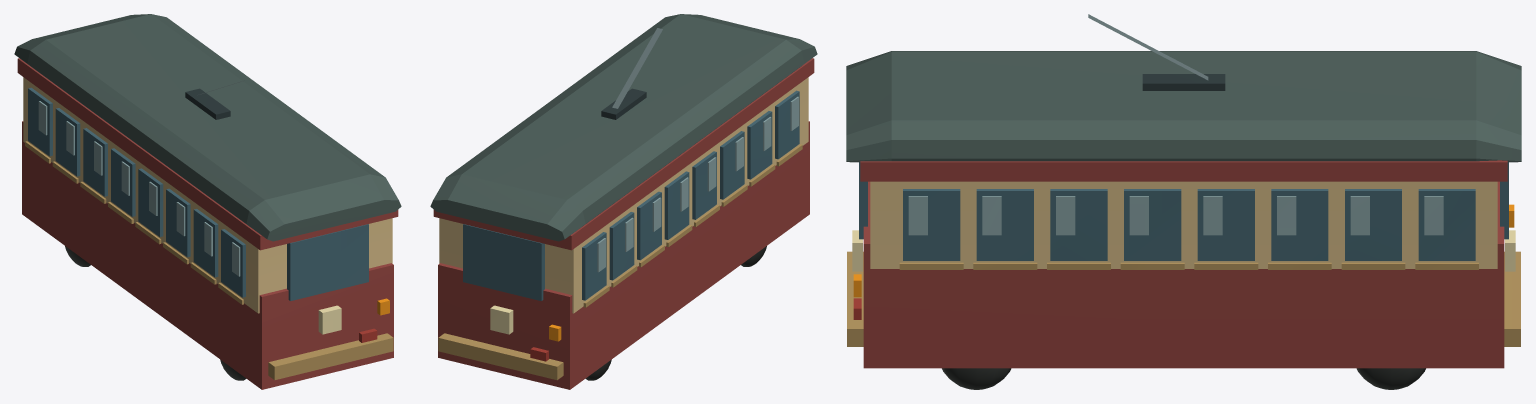
The model's file is trolley.glb.
3 renders of one model, left to right at view 1: azimuth 30°, elevation 25°; view 2: azimuth 150°, elevation 25°; view 3: azimuth 270°, elevation 25°, orthographic. The views are drawn at different scales.
Parts seen in each view (by area): view 1: Delmar Loop heritage trolley · Trolley roof, Delmar Loop heritage trolley · Trolley red, Delmar Loop heritage trolley · Car glass, Delmar Loop heritage trolley · Trolley cream, Delmar Loop heritage trolley · Brass, Delmar Loop heritage trolley · Car glint, Delmar Loop heritage trolley · Coal, Delmar Loop heritage trolley · Headlight, Delmar Loop heritage trolley · Tire; view 2: Delmar Loop heritage trolley · Trolley roof, Delmar Loop heritage trolley · Trolley red, Delmar Loop heritage trolley · Car glass, Delmar Loop heritage trolley · Trolley cream, Delmar Loop heritage trolley · Brass, Delmar Loop heritage trolley · Car glint, Delmar Loop heritage trolley · Coal, Delmar Loop heritage trolley · Headlight, Delmar Loop heritage trolley · Steel, Delmar Loop heritage trolley · Tire; view 3: Delmar Loop heritage trolley · Trolley red, Delmar Loop heritage trolley · Trolley roof, Delmar Loop heritage trolley · Car glass, Delmar Loop heritage trolley · Trolley cream, Delmar Loop heritage trolley · Brass, Delmar Loop heritage trolley · Car glint, Delmar Loop heritage trolley · Tire, Delmar Loop heritage trolley · Coal, Delmar Loop heritage trolley · Headlight.
Part boxes in pixels (left/top/right/bottom): Delmar Loop heritage trolley · Trolley roof: left=14, top=14, right=401, bottom=241; Delmar Loop heritage trolley · Trolley red: left=17, top=58, right=398, bottom=389; Delmar Loop heritage trolley · Car glass: left=28, top=87, right=368, bottom=300; Delmar Loop heritage trolley · Trolley cream: left=23, top=77, right=392, bottom=313; Delmar Loop heritage trolley · Brass: left=25, top=141, right=393, bottom=380; Delmar Loop heritage trolley · Car glint: left=38, top=101, right=240, bottom=276; Delmar Loop heritage trolley · Coal: left=185, top=88, right=230, bottom=119; Delmar Loop heritage trolley · Headlight: left=318, top=305, right=341, bottom=334; Delmar Loop heritage trolley · Tire: left=65, top=246, right=246, bottom=380; Delmar Loop heritage trolley · Trolley roof: left=430, top=14, right=817, bottom=241; Delmar Loop heritage trolley · Trolley red: left=433, top=58, right=814, bottom=389; Delmar Loop heritage trolley · Car glass: left=463, top=90, right=799, bottom=300; Delmar Loop heritage trolley · Trolley cream: left=439, top=77, right=808, bottom=313; Delmar Loop heritage trolley · Brass: left=438, top=144, right=802, bottom=380; Delmar Loop heritage trolley · Car glint: left=597, top=96, right=798, bottom=272; Delmar Loop heritage trolley · Coal: left=601, top=88, right=646, bottom=119; Delmar Loop heritage trolley · Headlight: left=490, top=305, right=513, bottom=334; Delmar Loop heritage trolley · Steel: left=612, top=28, right=662, bottom=108; Delmar Loop heritage trolley · Tire: left=585, top=246, right=766, bottom=380; Delmar Loop heritage trolley · Trolley red: left=860, top=160, right=1507, bottom=368; Delmar Loop heritage trolley · Trolley roof: left=846, top=51, right=1521, bottom=162; Delmar Loop heritage trolley · Car glass: left=859, top=162, right=1508, bottom=260; Delmar Loop heritage trolley · Trolley cream: left=870, top=181, right=1497, bottom=268; Delmar Loop heritage trolley · Brass: left=847, top=251, right=1520, bottom=346; Delmar Loop heritage trolley · Car glint: left=908, top=196, right=1443, bottom=235; Delmar Loop heritage trolley · Tire: left=942, top=368, right=1425, bottom=389; Delmar Loop heritage trolley · Coal: left=1142, top=74, right=1225, bottom=90; Delmar Loop heritage trolley · Headlight: left=852, top=230, right=1515, bottom=271.
Bounding box in the file's own units: 1.68 × 2.83 × 5.08.
